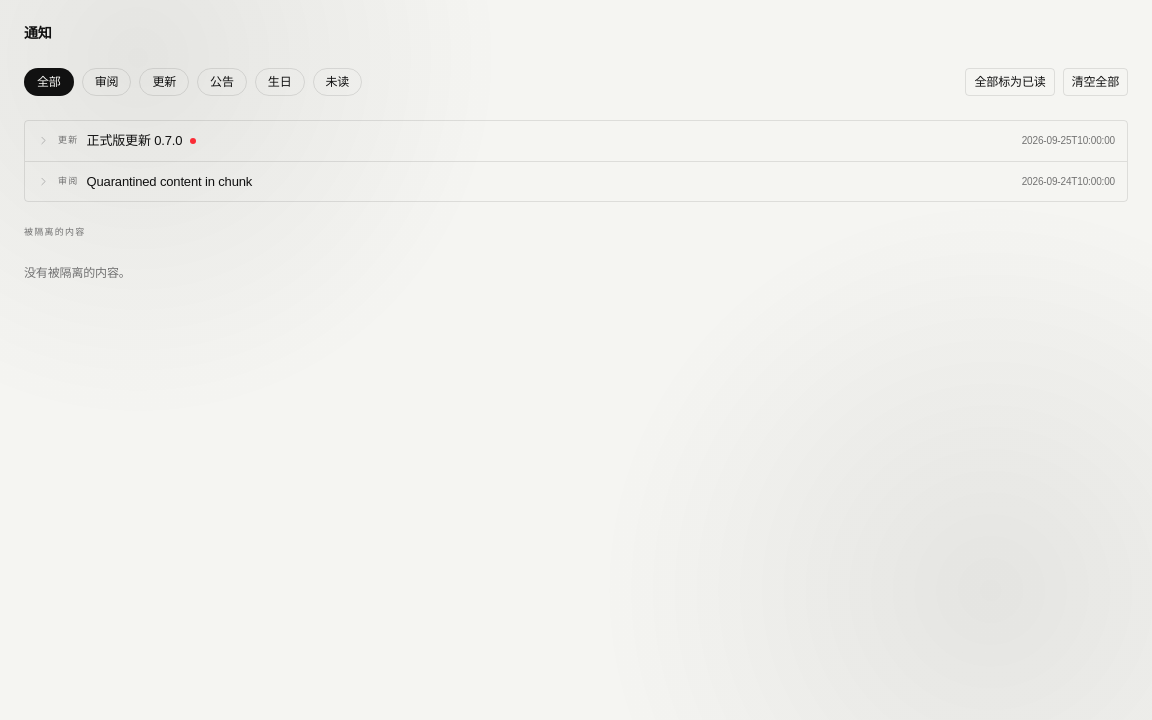
Test: Notifications feed › hides the body until the item is expanded
Expected: the list item with test id "notification-1" is shown, [25,121,1127,162]
Expected: the text "notes" is not shown
Step 1. Click the text with test id "notification-title-1" → {"x": 134, "y": 141}, box [86,131,182,150]
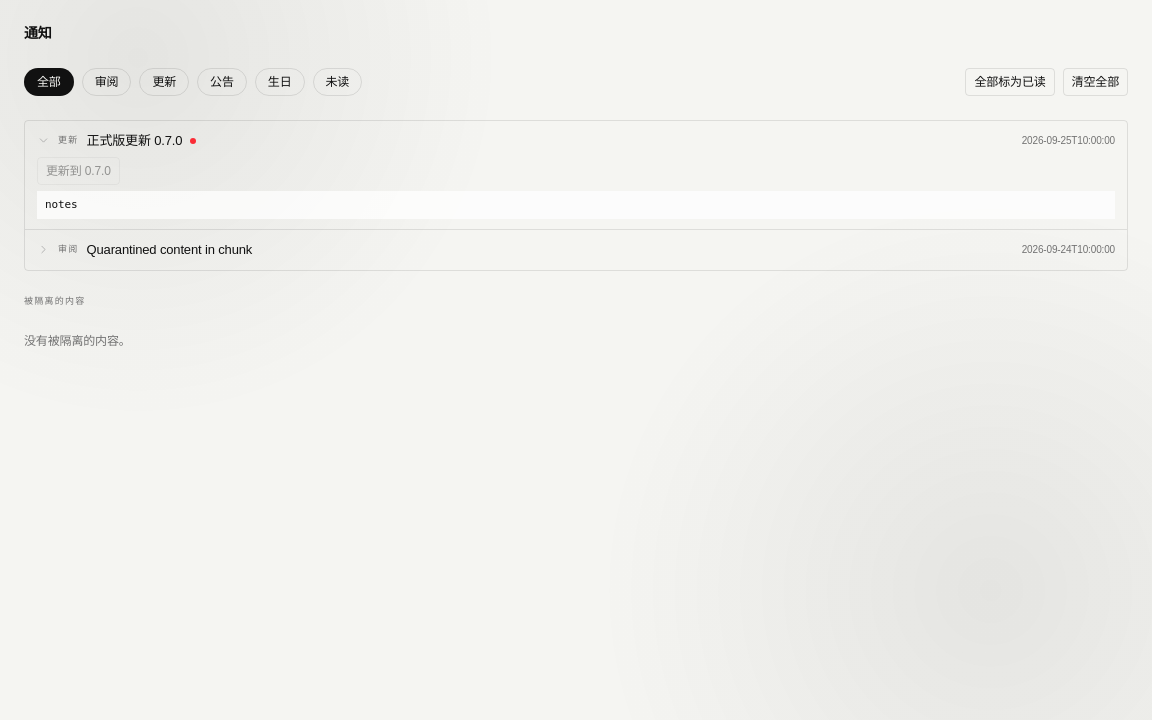
Expected: the text "notes" is shown, [37,190,1115,219]
